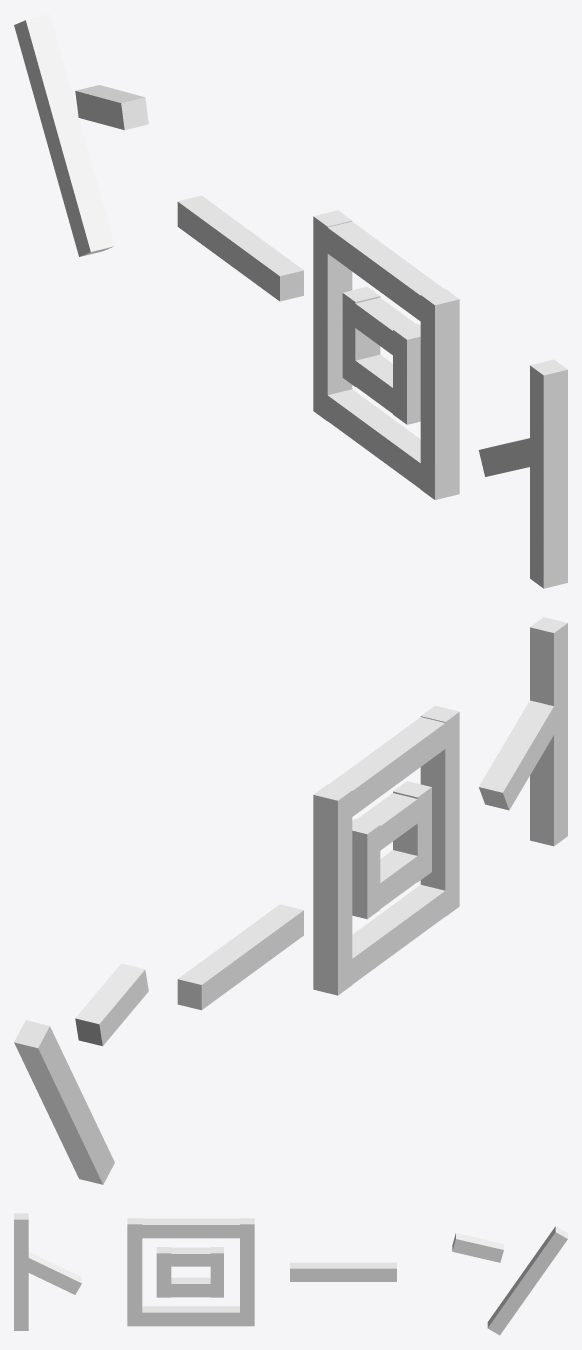
File: doroso.obj
3 renders of one model, top to bottom at view 1: azimuth 30°, elevation 25°; view 2: azimuth 150°, elevation 25°; view 3: azimuth 270°, elevation 25°, orthographic. The views are drawn at different scales.
Parts seen in each view (by area): view 1: 立方体.013; view 2: 立方体.013; view 3: 立方体.013.
Part boxes in pixels (x1,y1,x2,y2): 立方体.013: (14, 14, 567, 588); 立方体.013: (14, 617, 567, 1184); 立方体.013: (14, 1213, 567, 1335).
Size of the model in its own units: 0.4013 by 3.44 by 14.89.
1 material, 1 textured.
